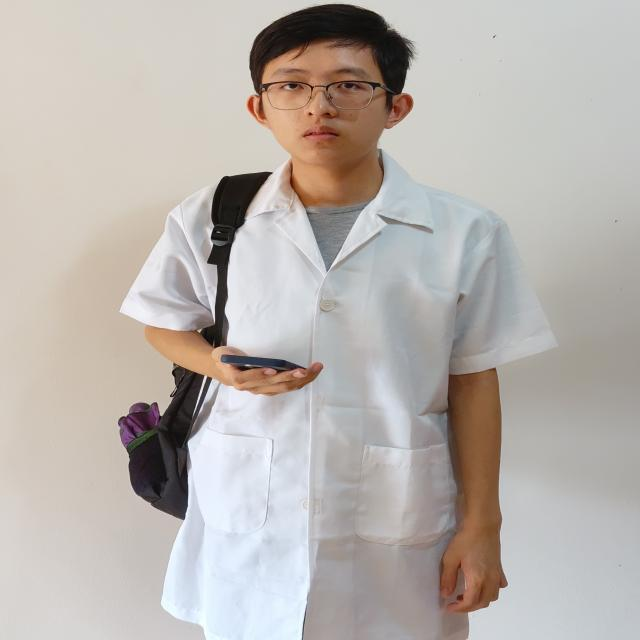person_with_labcoat: (121, 4, 557, 640)
